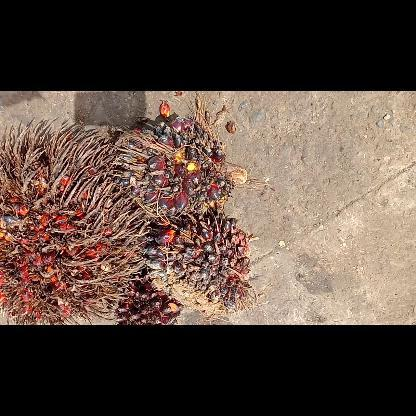TBS abnormal: (110, 114, 250, 226), (144, 210, 254, 320), (114, 276, 182, 324)
Terlalu masak: (0, 116, 152, 324)
